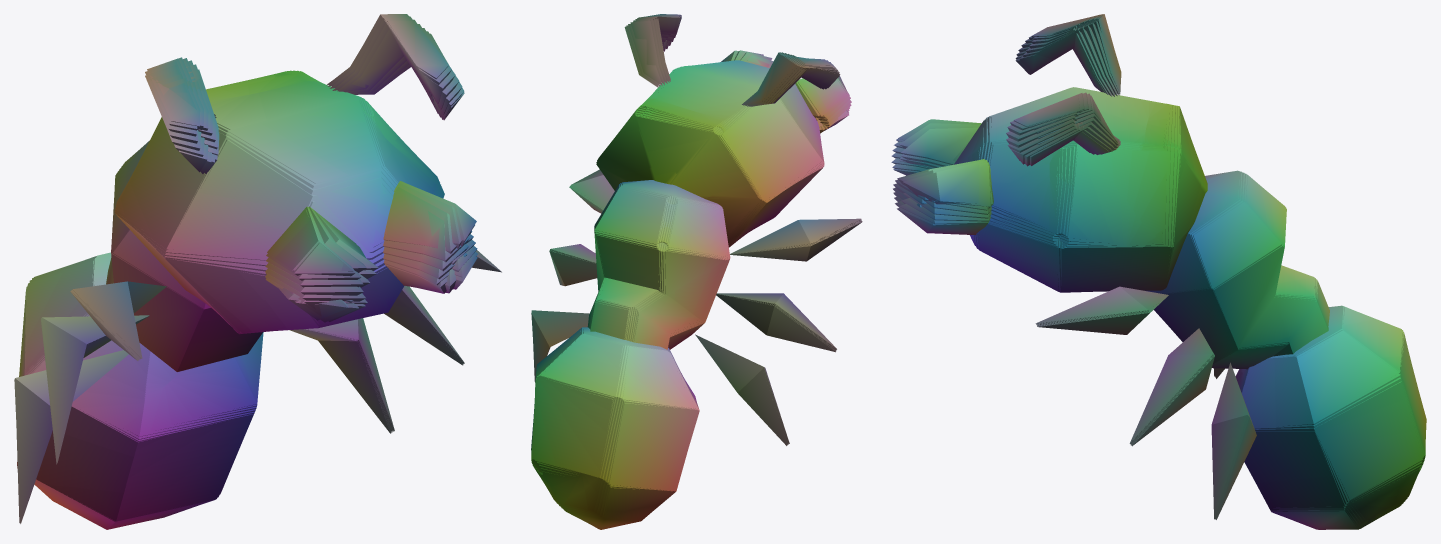
File: Idle_meshes.fbx
The picture shows the model from 3 angles, left to right: view 1: azimuth 30°, elevation 25°; view 2: azimuth 150°, elevation 25°; view 3: azimuth 270°, elevation 25°; orthographic projection. The views are drawn at different scales.
Visible parts, largest first — view 1: Idle_008, Idle_007, Idle_006, Idle_009, Idle_011, Idle_004, Idle_012, Idle_003, Idle_005, Idle_000, Idle_010, Idle_013 (+4 smaller); view 2: Idle_008, Idle_000, Idle_009, Idle_007, Idle_004, Idle_011, Idle_006, Idle_012, Idle_005, Idle_010, Idle_003, Idle_013 (+4 smaller); view 3: Idle_000, Idle_003, Idle_015, Idle_008, Idle_002, Idle_001, Idle_014, Idle_009, Idle_011, Idle_012, Idle_004, Idle_013 (+4 smaller).
Boxes of the visible parts, box(x1,y1,x2,y2) form: Idle_008: box(15, 14, 499, 522); Idle_007: box(15, 14, 471, 461); Idle_006: box(15, 15, 497, 522); Idle_009: box(17, 16, 476, 465); Idle_011: box(34, 24, 472, 525); Idle_004: box(14, 20, 501, 522); Idle_012: box(36, 28, 473, 529); Idle_003: box(14, 24, 500, 522); Idle_005: box(14, 17, 500, 521); Idle_000: box(14, 33, 477, 487); Idle_010: box(17, 19, 474, 468); Idle_013: box(118, 31, 475, 524); Idle_008: box(534, 20, 860, 514); Idle_000: box(531, 40, 861, 506); Idle_009: box(540, 24, 846, 527); Idle_007: box(532, 19, 860, 512); Idle_004: box(531, 15, 861, 499); Idle_011: box(542, 26, 802, 529); Idle_006: box(532, 18, 860, 510); Idle_012: box(541, 27, 781, 529); Idle_005: box(531, 14, 861, 499); Idle_010: box(541, 25, 814, 528); Idle_003: box(531, 17, 861, 500); Idle_013: box(540, 42, 819, 511); Idle_000: box(897, 28, 1419, 527); Idle_003: box(892, 26, 1422, 521); Idle_015: box(899, 27, 1419, 528); Idle_008: box(896, 14, 1425, 522); Idle_002: box(893, 27, 1421, 523); Idle_001: box(895, 28, 1420, 525); Idle_014: box(899, 25, 1419, 529); Idle_009: box(898, 14, 1424, 523); Idle_011: box(901, 21, 1422, 527); Idle_012: box(901, 23, 1421, 529); Idle_004: box(891, 21, 1424, 520); Idle_013: box(900, 24, 1420, 529).
Size of the model in its own units: 176 by 247 by 256.
